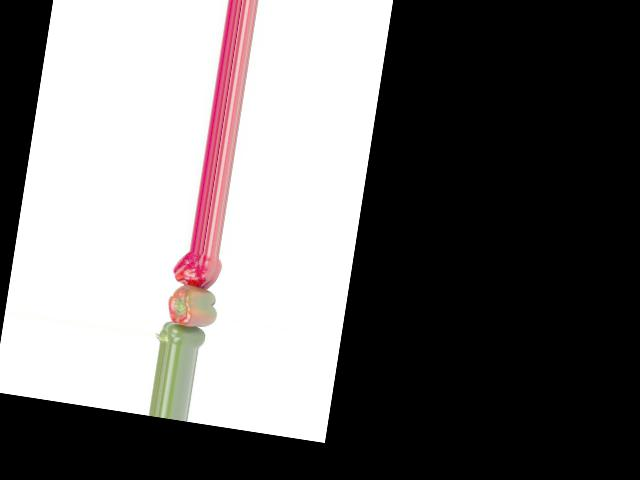bell_pepper: (167, 249, 225, 292)
